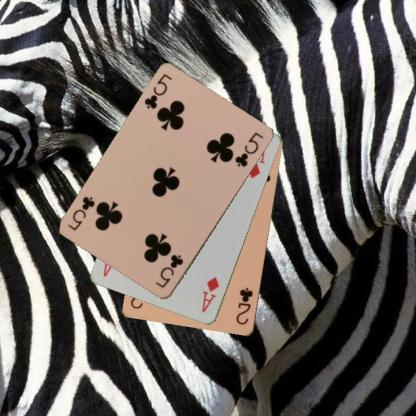2c: (234, 285, 254, 326)
5c: (141, 72, 174, 111), (152, 252, 185, 290)
Ad: (199, 274, 221, 314)
